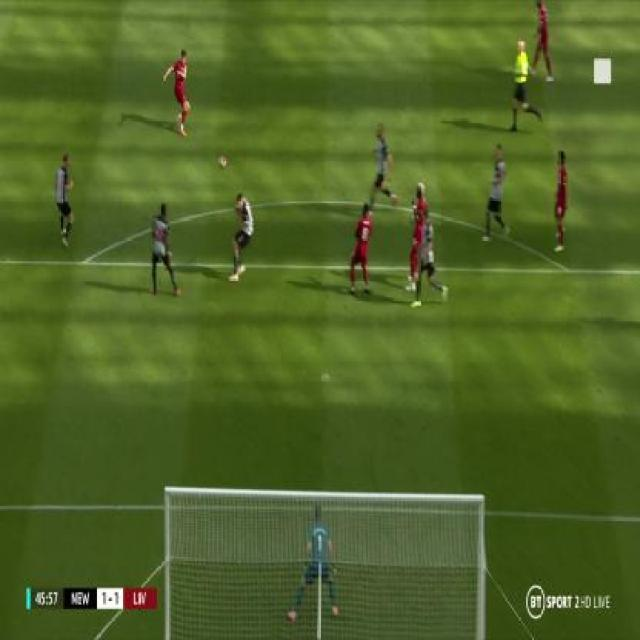ball: (218, 154, 227, 168)
player: (288, 503, 341, 623), (410, 207, 449, 310), (481, 140, 512, 248), (148, 200, 181, 300), (367, 120, 400, 214), (346, 199, 377, 299), (509, 39, 540, 135), (406, 182, 429, 308), (163, 46, 192, 134), (229, 187, 255, 281), (549, 146, 571, 254), (53, 151, 76, 248), (530, 0, 556, 82)
